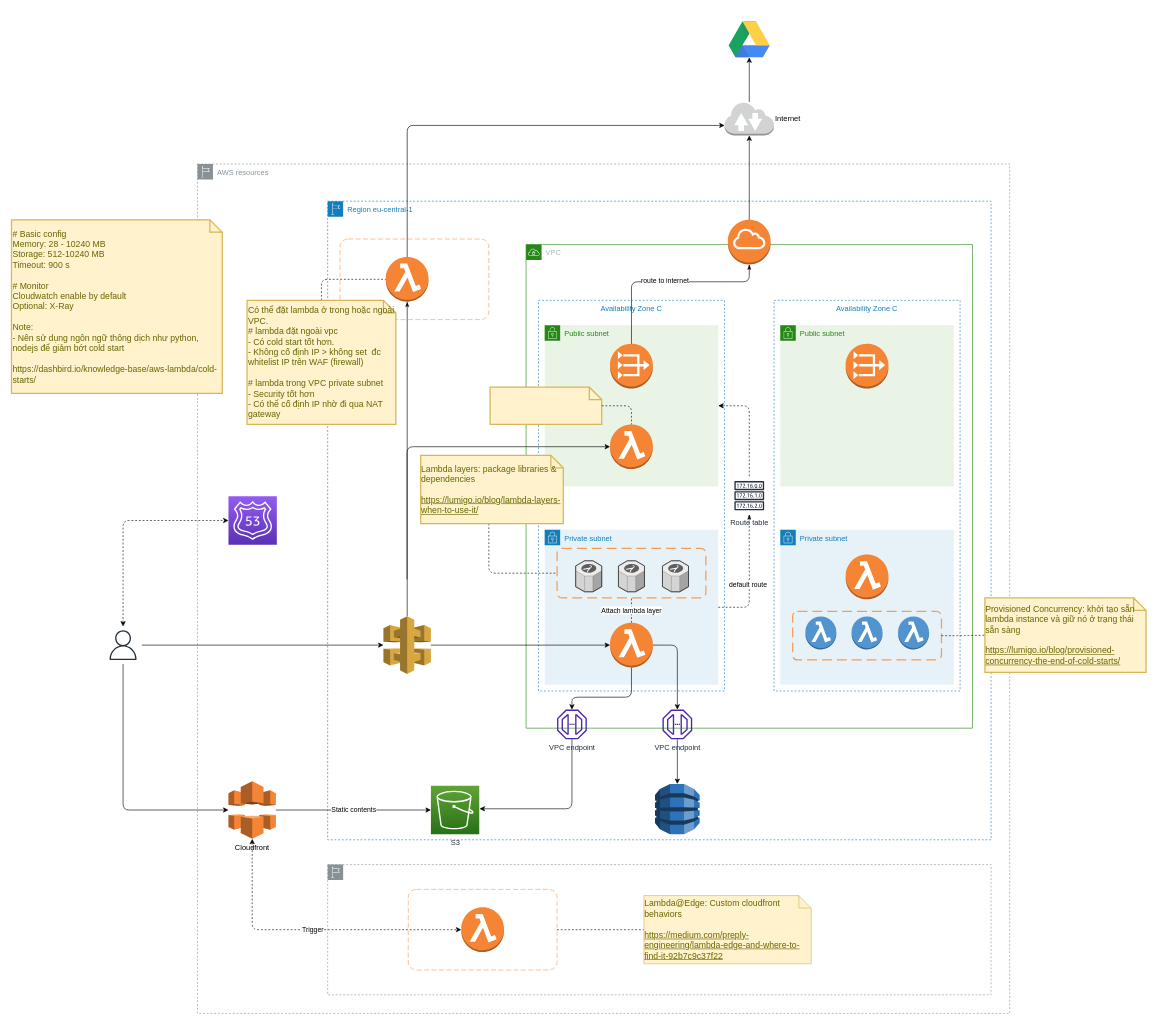
Some shapes in this 1157 by 1024 pixel diagram are drawn without their labels. Here are the shapes that lost their labels. From the top down, the box of each, then its label:
(728, 21, 770, 57): Google Drive
(727, 219, 771, 265): Internet Gateway
(609, 343, 653, 389): NAT gateway
(489, 386, 602, 425): Không nên đặt lambda ở public subnet
(228, 496, 277, 545): Route 53
(104, 626, 142, 664): User
(383, 615, 431, 674): API Gateway
(654, 783, 700, 834): DynamoDB
(461, 907, 504, 952): Lambda@Edge
(327, 864, 991, 995): Region us-east-1
